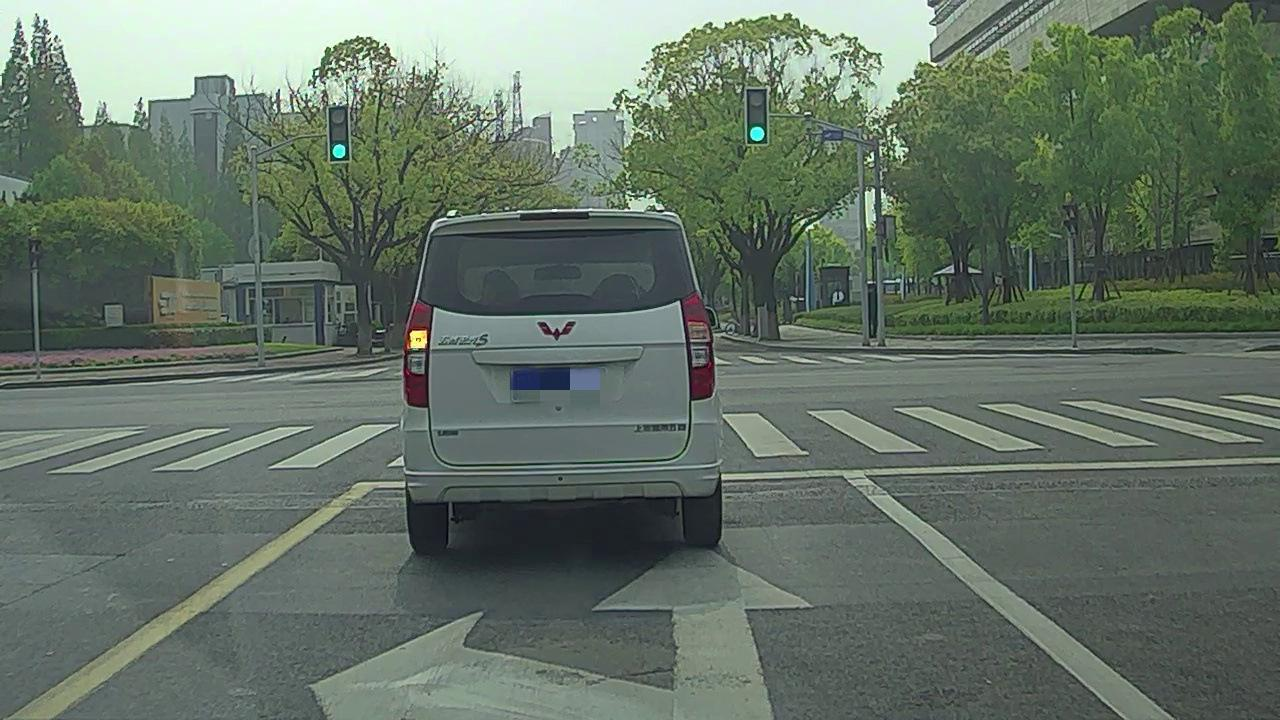traffic_light: (747, 90, 769, 143), (330, 108, 349, 161)
